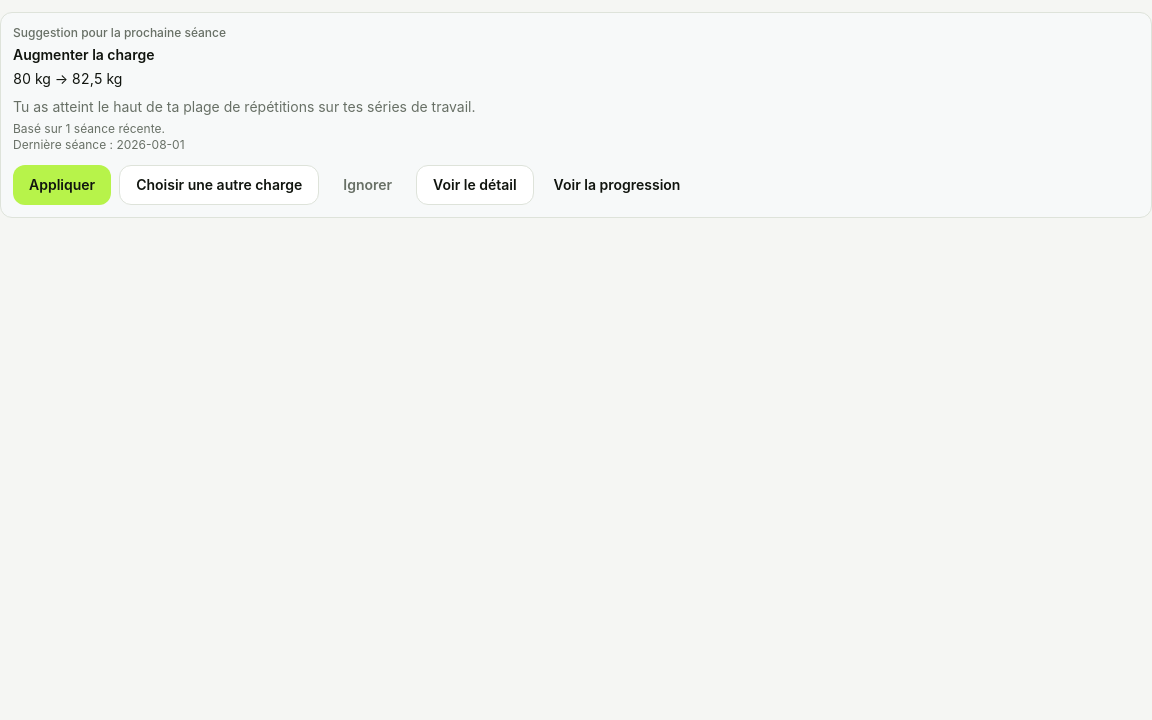
Test case: LoadRecommendationCard (5.1 + 5.2) › ouvre le détail avec RIR et ferme le dialog
Expected: the text "Augmenter la charge" is shown, [13, 46, 154, 63]
What coordinates should you click on to do the following:
click the button "Voir le détail"
I would click on:
 (475, 185)
Its box is [416, 165, 534, 205].
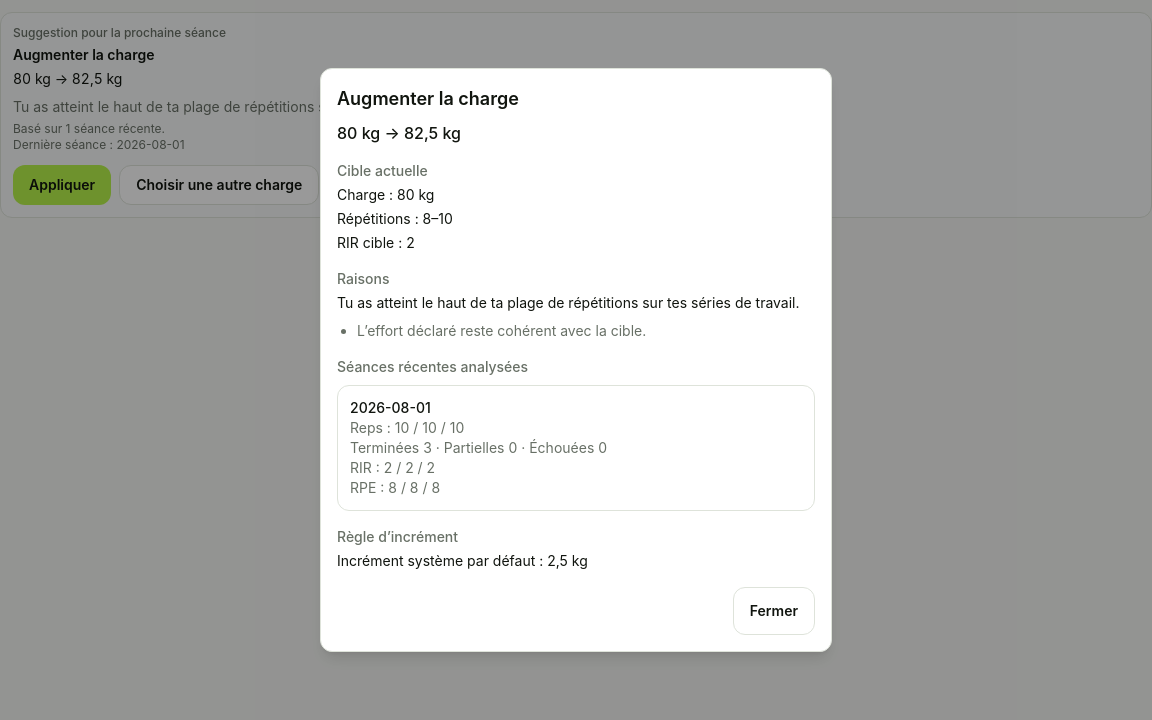
Expected: the text "RIR : 2 / 2 / 2" is shown, [350, 459, 435, 476]
Expected: the text "RPE : 8 / 8 / 8" is shown, [350, 479, 440, 496]
Expected: the text "Incrément système par défaut : 2,5 kg" is shown, [337, 552, 588, 569]
What coordinates should you click on to do the following:
click the button "Fermer"
I would click on:
 (774, 611)
Its box is [733, 587, 815, 635].
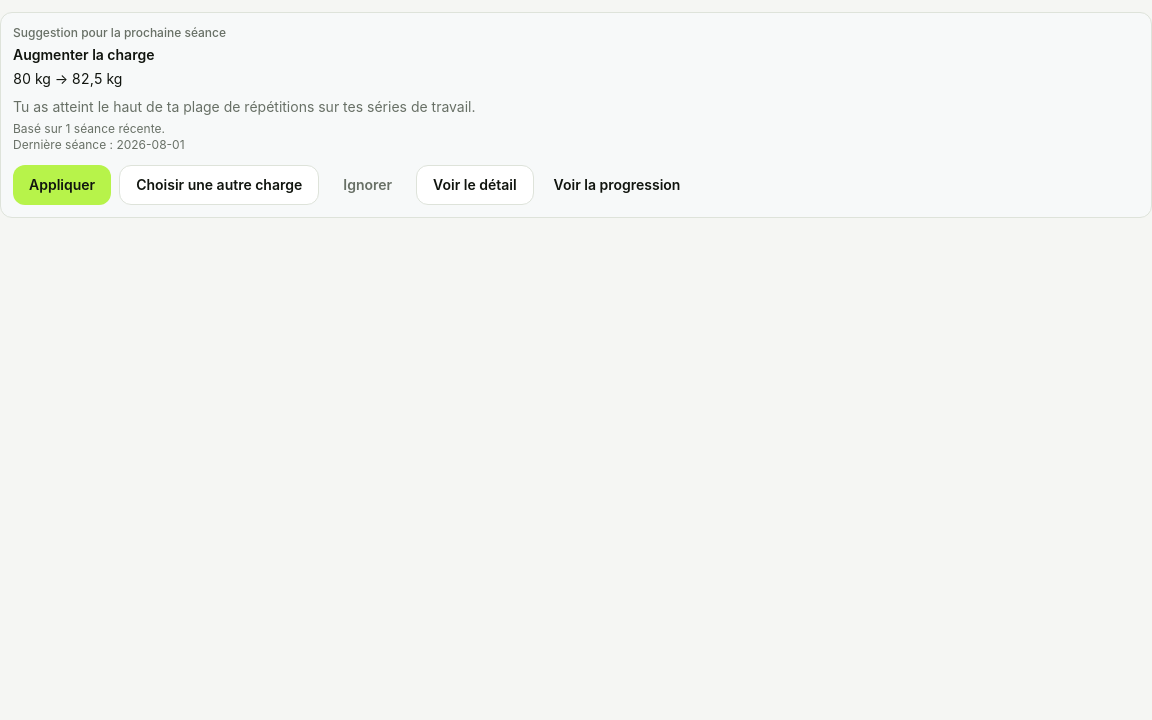
Expected: the dialog is gone
